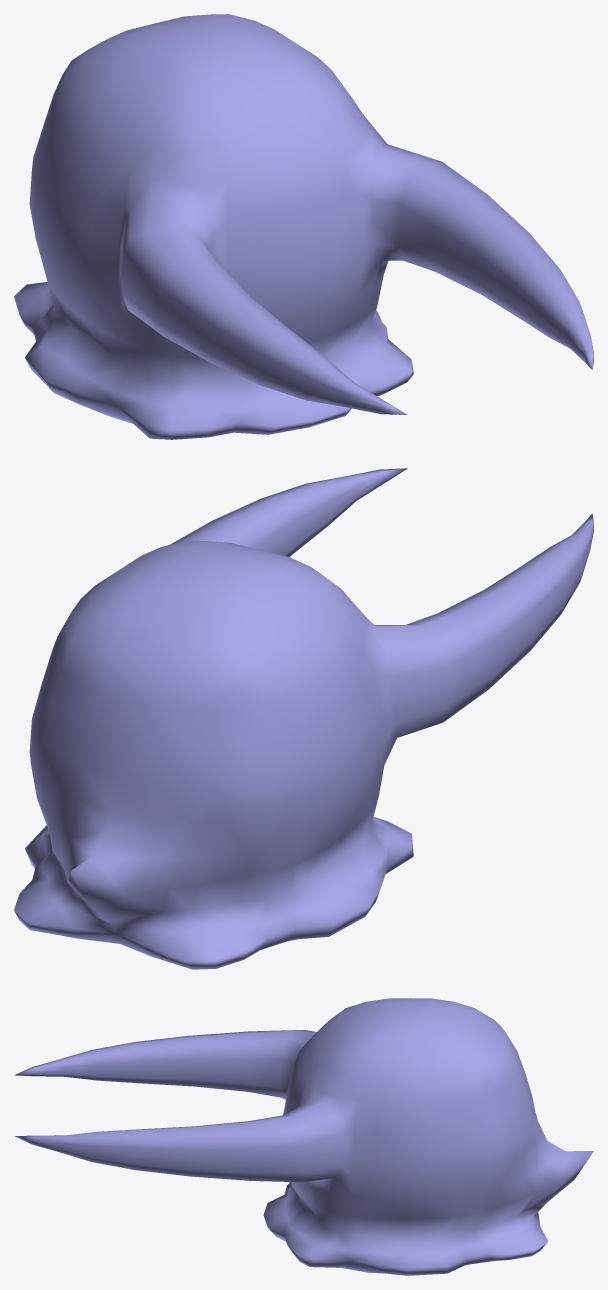
File: slime_front_1.fbx
3 renders of one model, top to bottom at view 1: azimuth 30°, elevation 25°; view 2: azimuth 150°, elevation 25°; view 3: azimuth 270°, elevation 25°, orthographic. The views are drawn at different scales.
Parts seen in each view (by area): view 1: polySurface2; view 2: polySurface2; view 3: polySurface2.
Boxes of the visible parts, x1,y1,x2,y2 form: polySurface2: [14, 14, 593, 439]; polySurface2: [14, 468, 593, 969]; polySurface2: [14, 998, 593, 1275].
Bounding box in the file's own units: 129 × 120 × 285.
